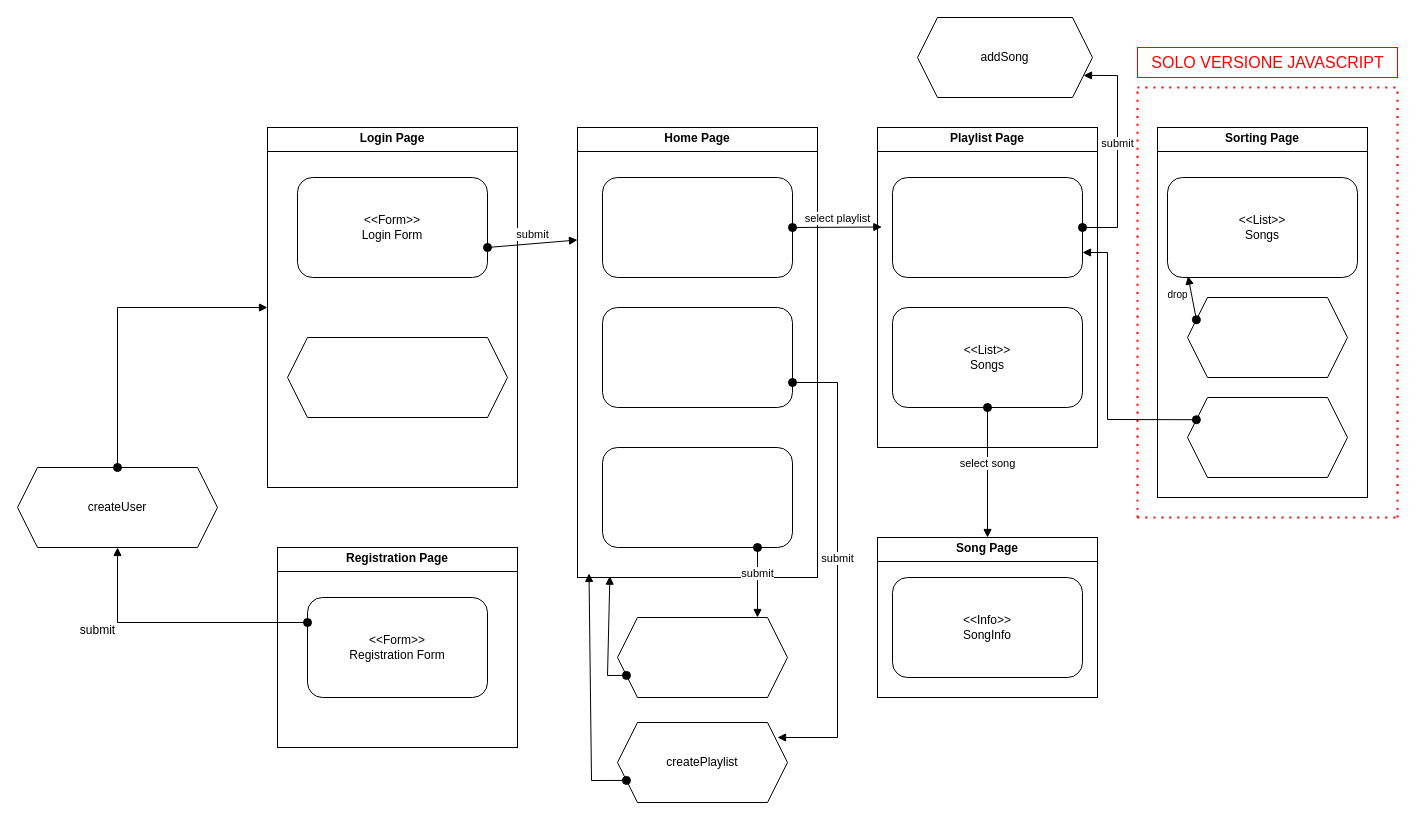
The diagram is 1417 pixels wide and 820 high, and some of its shapes have lost their labels. Each missing label, with the centre of its shape:
"<<Form>> AddSong" goes at (987,227).
"<<Form>> CreatePlaylist" goes at (697,357).
"<<Form>> CreateSong" goes at (697,497).
"<<List>> Playlist" goes at (697,227).
"createSong" goes at (702,657).
"Drag&Drop" goes at (1267,337).
"GoRegistrationPage" goes at (397,377).
"Save" goes at (1267,437).
